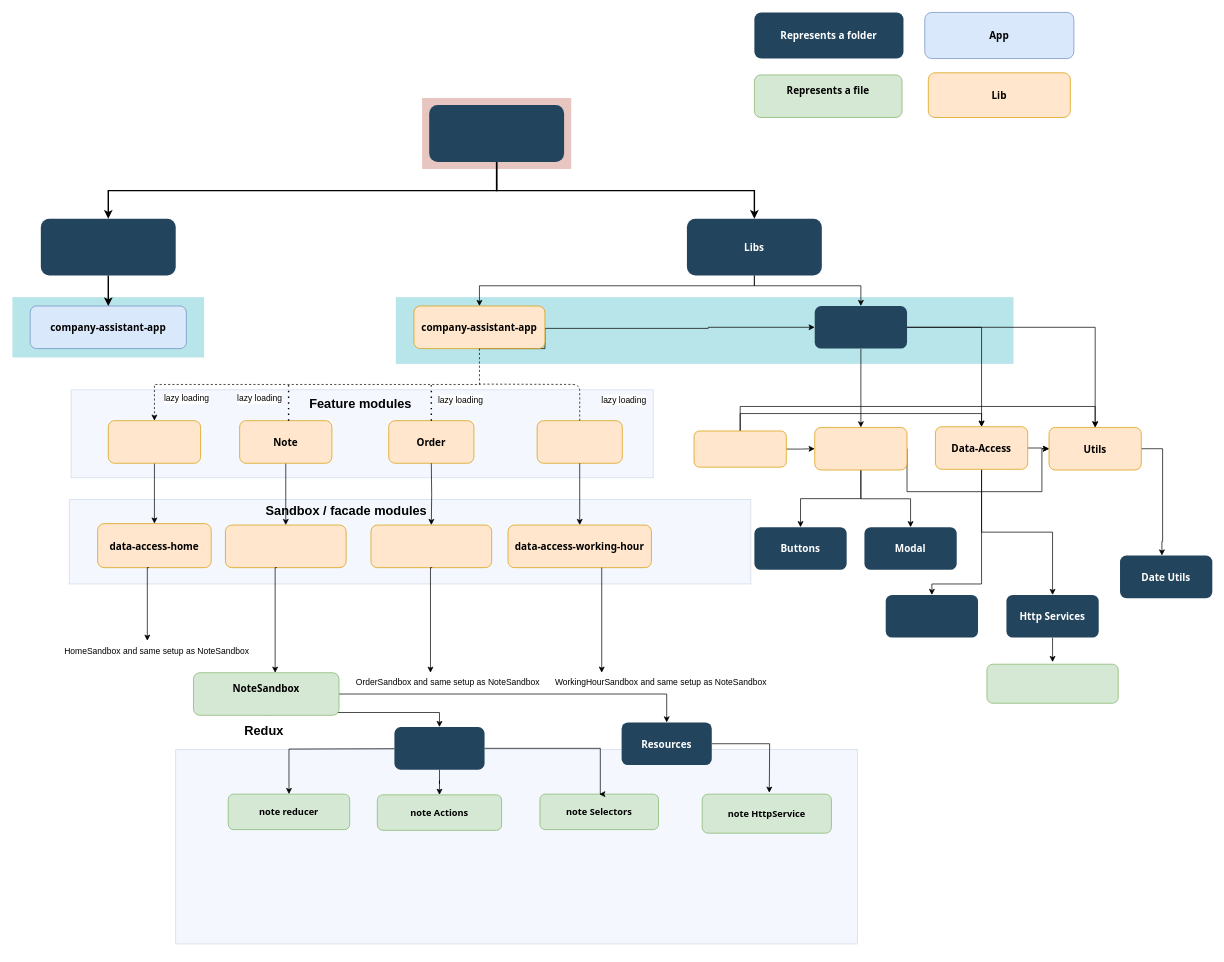
The diagram is 1224 pixels wide and 962 high, and some of its shapes have lost their labels. Each missing label, with the box of its shape:
Apps: (40, 218, 175, 275)
Auth: (693, 430, 786, 467)
data-access-note: (225, 524, 346, 568)
data-access-order: (370, 524, 492, 568)
Home: (108, 420, 201, 463)
HttpInterceptor: (986, 663, 1118, 703)
Monorepo: (429, 105, 564, 162)
Shared: (814, 306, 907, 348)
State: (394, 727, 484, 769)
Store: (885, 595, 978, 637)
UI: (814, 427, 907, 470)
Working Hour: (536, 420, 622, 463)
